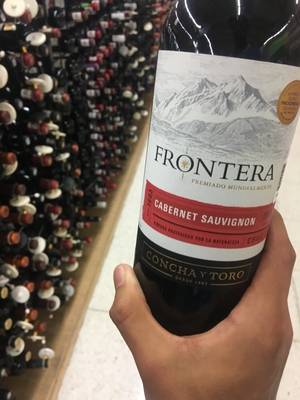frontera cabernet sauvignon: (132, 1, 300, 327)
